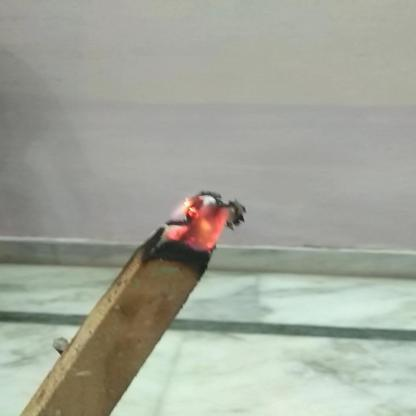fire: (166, 186, 238, 253)
